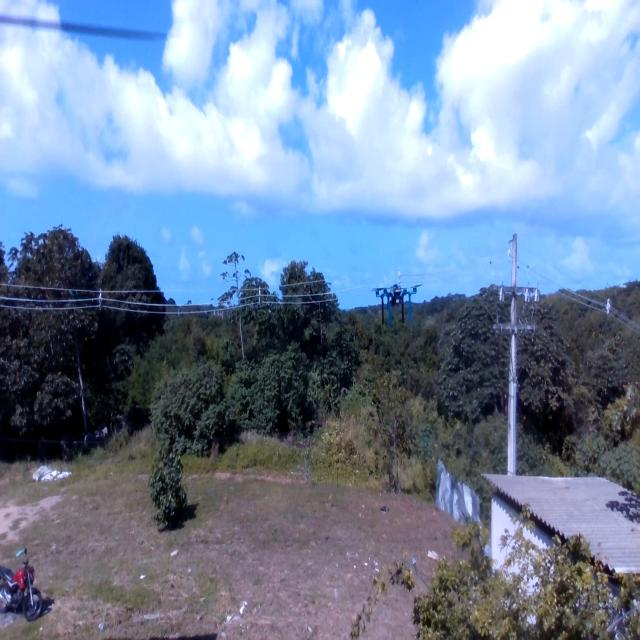-uav-: (369, 273, 425, 339)
